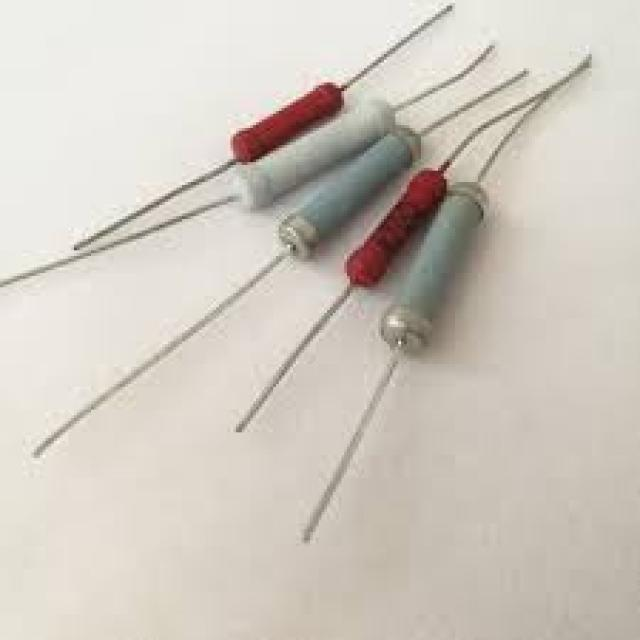Resistor: (279, 132, 417, 255), (388, 182, 490, 346), (347, 168, 449, 288), (230, 81, 346, 164)
